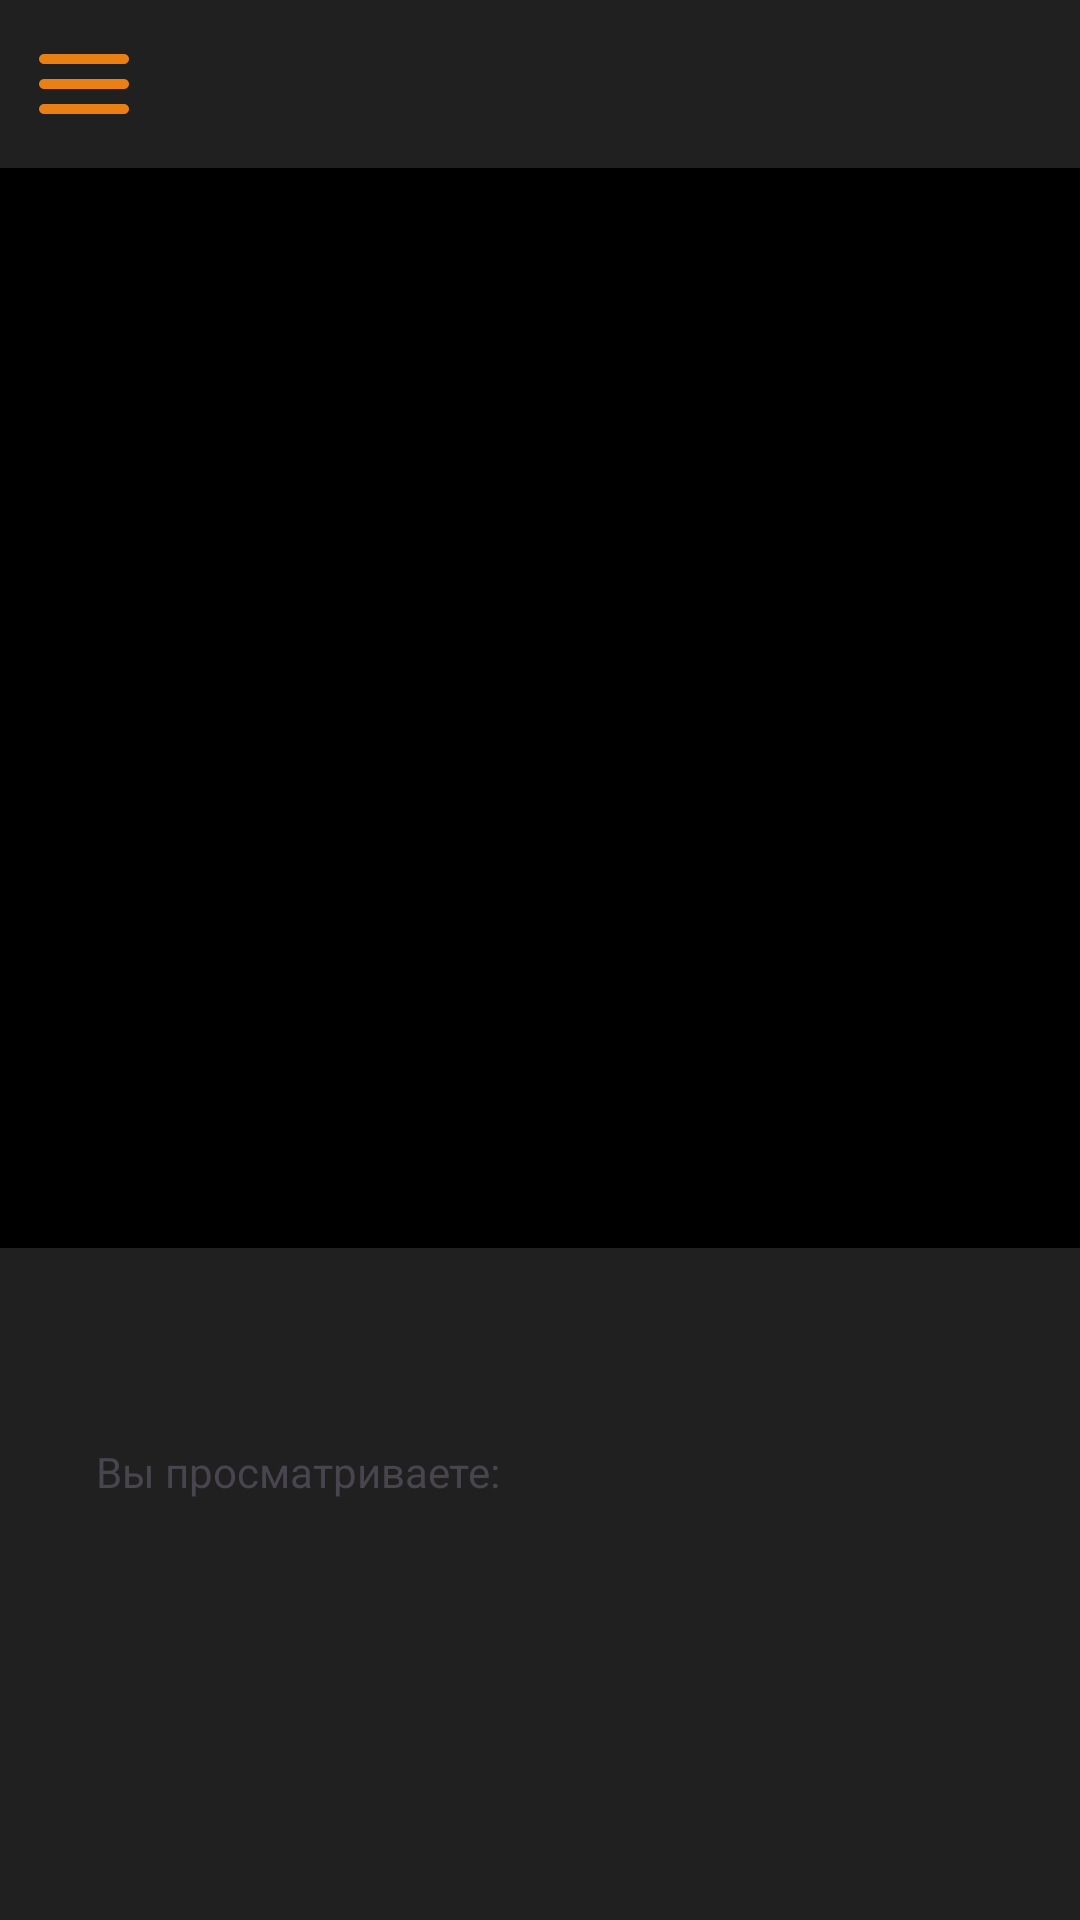

Locate icon controls on the screen. Image size 1080 × 1920, boxes as (x1=x1, y1=y1, x2=x2, y2=y2).
menu: (x1=39, y1=54, x2=129, y2=114)
